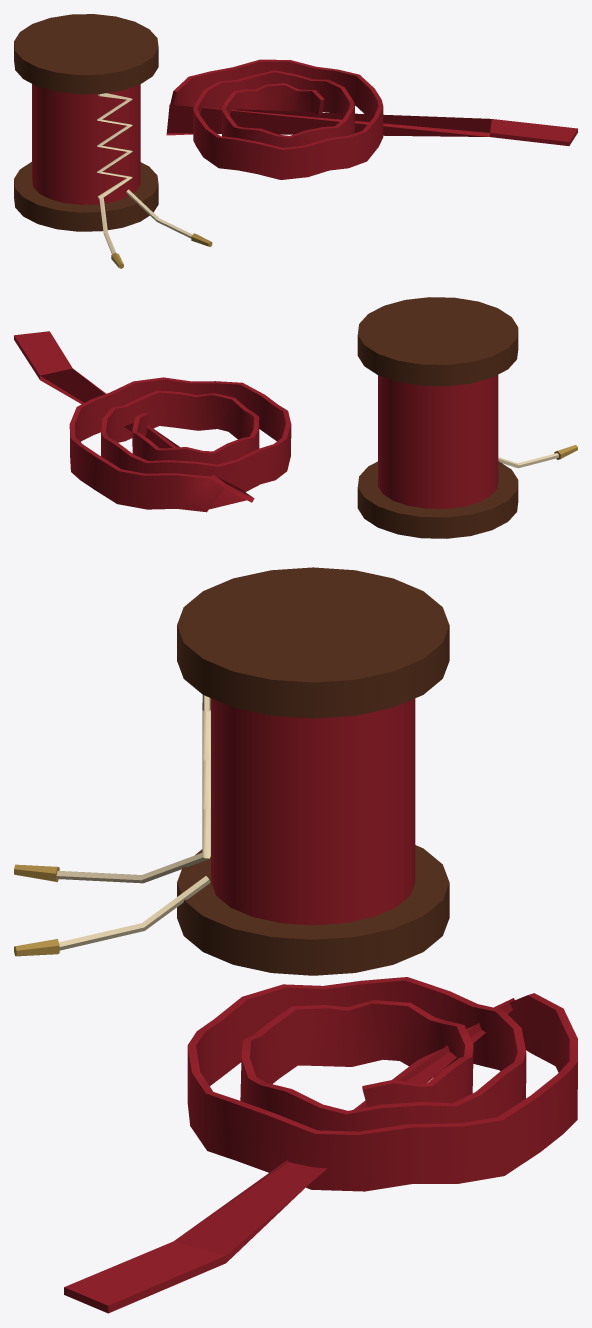
The model's file is PR_BodiceLace.fbx.
3 views of the same model, one above another, from view 1: azimuth 30°, elevation 25°; view 2: azimuth 150°, elevation 25°; view 3: azimuth 270°, elevation 25° (orthographic). The views are drawn at different scales.
Visible parts, largest first — view 1: PR_BodiceLace_Ribbon, PR_BodiceLace_WoodDark, PR_BodiceLace_Cream; view 2: PR_BodiceLace_Ribbon, PR_BodiceLace_WoodDark, PR_BodiceLace_Cream; view 3: PR_BodiceLace_Ribbon, PR_BodiceLace_WoodDark, PR_BodiceLace_Cream, PR_BodiceLace_Brass.
Boxes of the visible parts, x1,y1,x2,y2 form: PR_BodiceLace_Ribbon: (32,59,577,204); PR_BodiceLace_WoodDark: (14,14,158,231); PR_BodiceLace_Cream: (97,93,192,254); PR_BodiceLace_Ribbon: (14,331,498,512); PR_BodiceLace_WoodDark: (357,297,518,538); PR_BodiceLace_Cream: (498,453,558,468); PR_BodiceLace_Ribbon: (64,698,577,1313); PR_BodiceLace_WoodDark: (177,567,449,975); PR_BodiceLace_Cream: (56,695,210,950); PR_BodiceLace_Brass: (14,864,59,956).
Bounding box in the file's own units: 0.3808 × 0.1149 × 0.1987.
